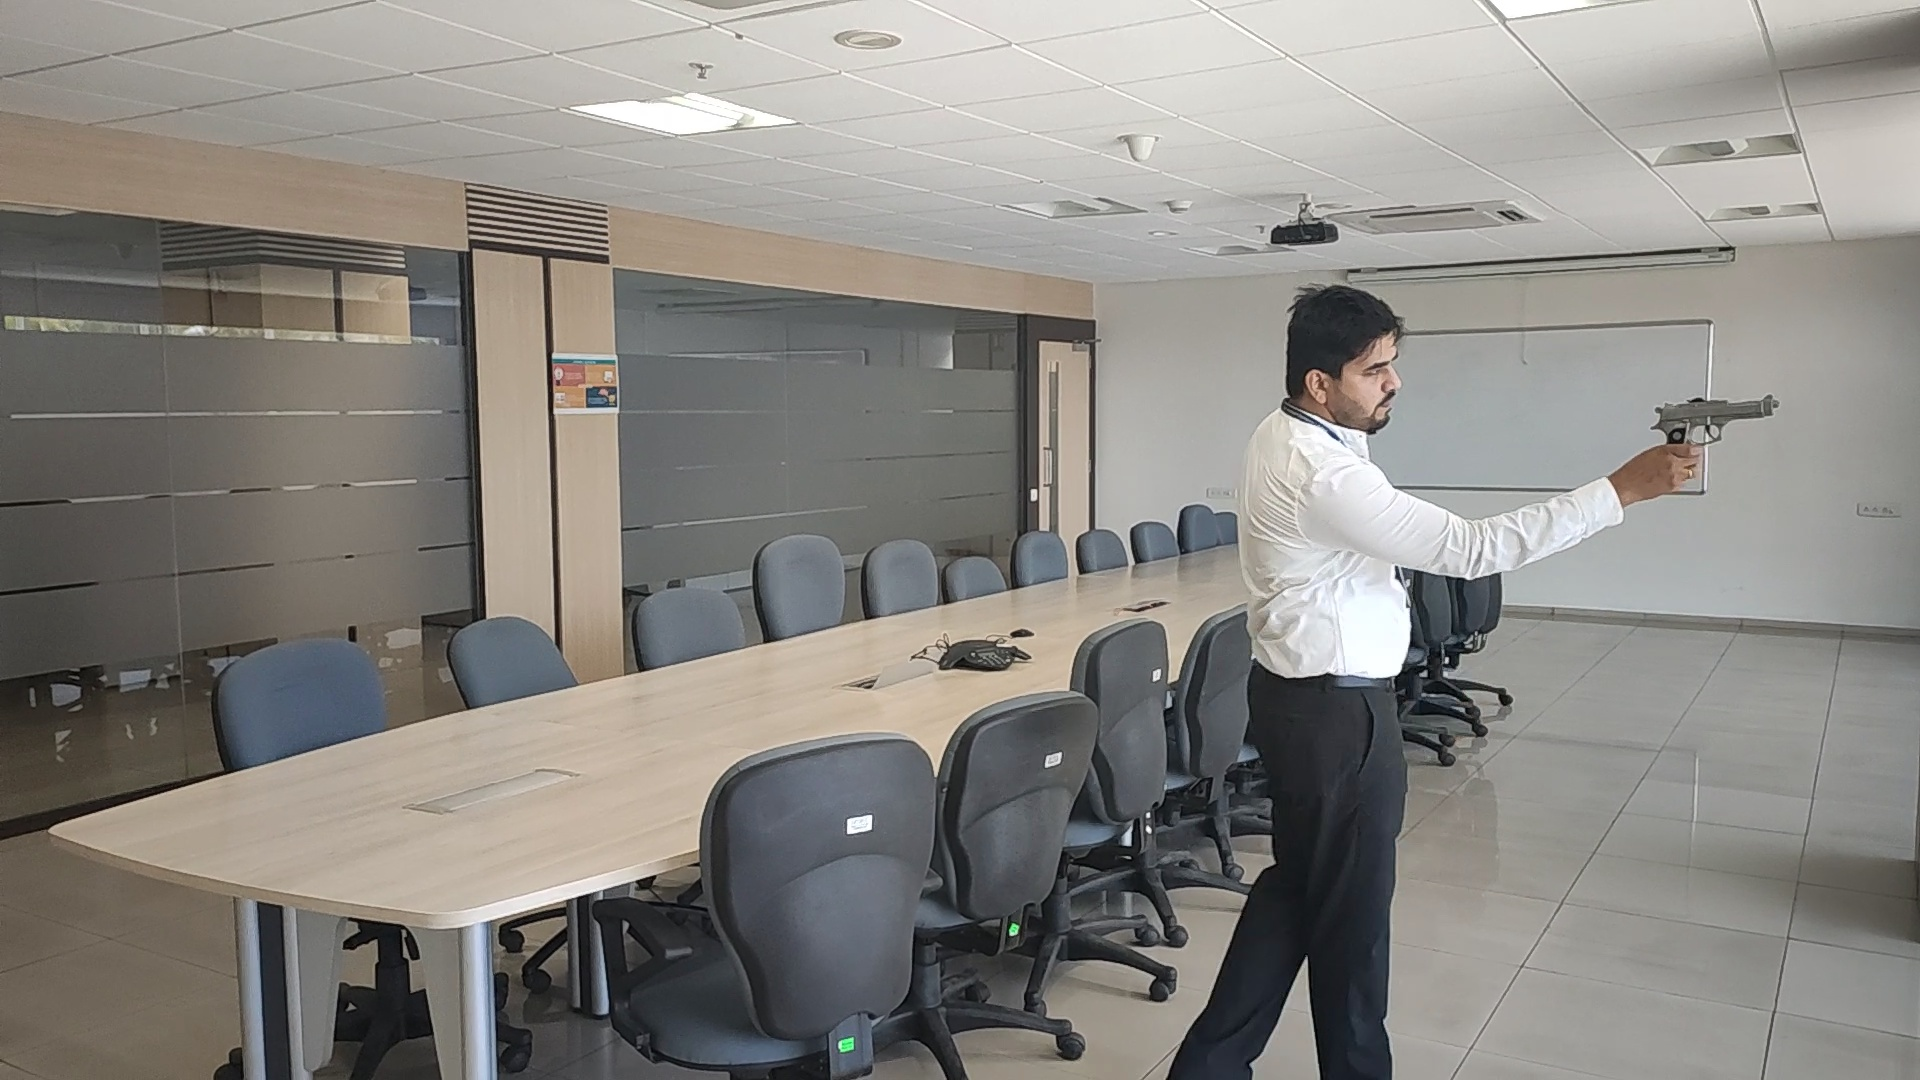gun: (1650, 394, 1780, 442)
